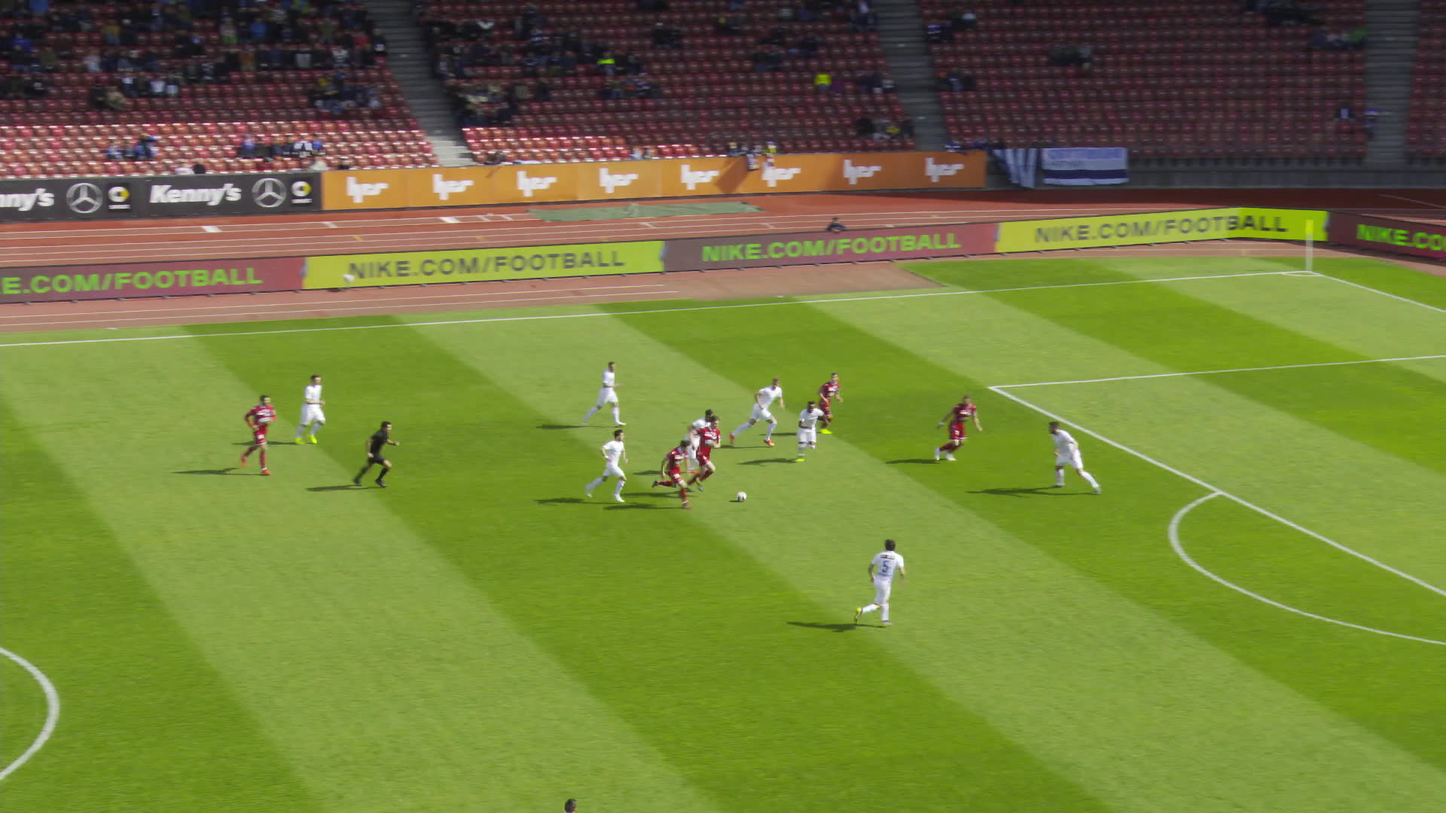ball: (736, 489, 745, 498)
player: (853, 536, 908, 632), (1048, 419, 1101, 499), (733, 378, 788, 448), (932, 394, 982, 465), (588, 430, 635, 502), (651, 439, 697, 507), (243, 394, 279, 474), (584, 361, 626, 427), (295, 374, 328, 447), (789, 401, 828, 462), (690, 416, 721, 490), (817, 372, 847, 433), (685, 407, 715, 453), (558, 796, 579, 812)
referee: (355, 419, 399, 491)
